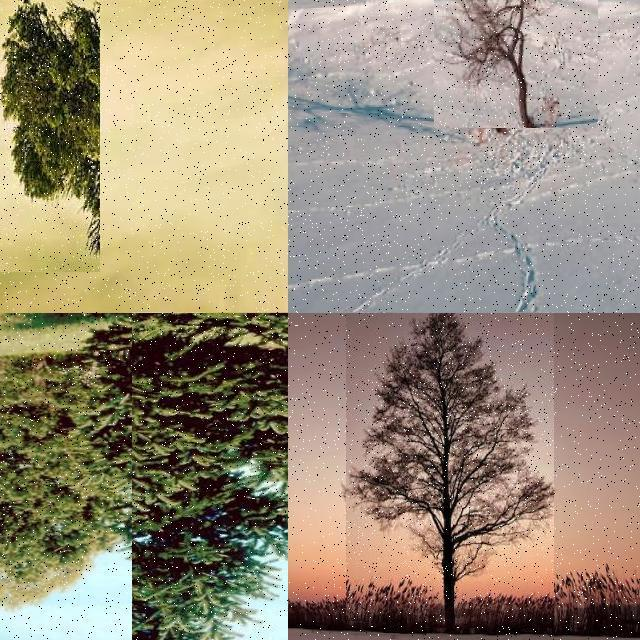tree: (346, 312, 554, 628), (132, 312, 288, 640), (0, 323, 116, 619), (0, 0, 100, 272), (434, 0, 598, 128), (220, 352, 288, 640)
